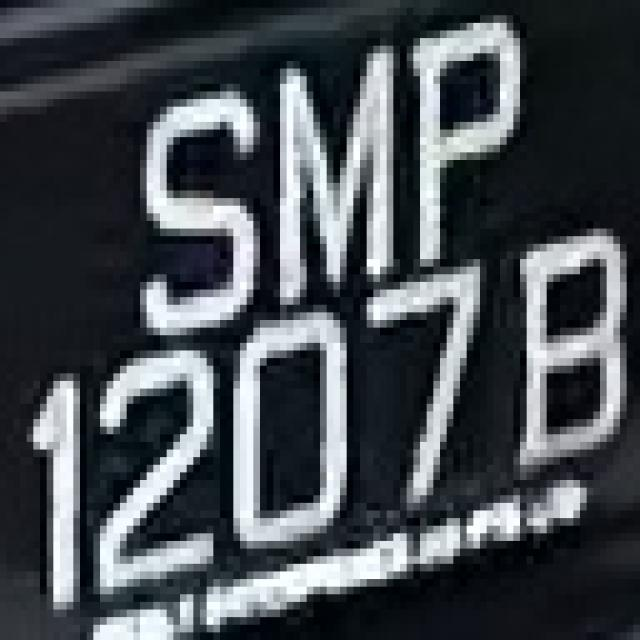0: (233, 305, 360, 564)
1: (0, 366, 87, 617)
2: (93, 335, 227, 602)
7: (360, 259, 480, 511)
B: (500, 221, 627, 472)
M: (246, 46, 406, 297)
P: (400, 0, 540, 274)
S: (114, 61, 274, 335)
